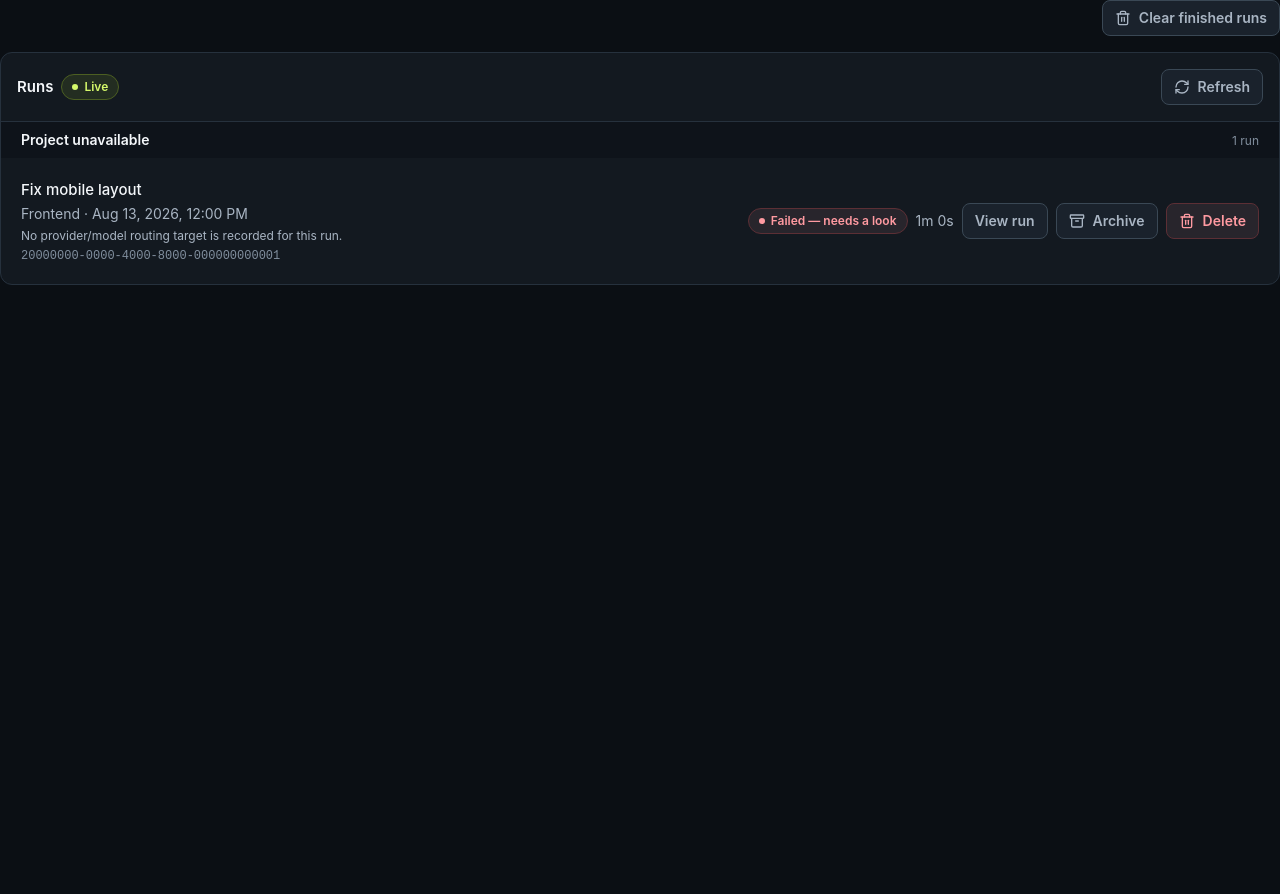
Test: Phase 1C control-plane consoles › offers a bounded retry only when run detail marks a terminal run retryable
Click the button "View run". click: (1005, 221)
box: [962,203,1048,239]
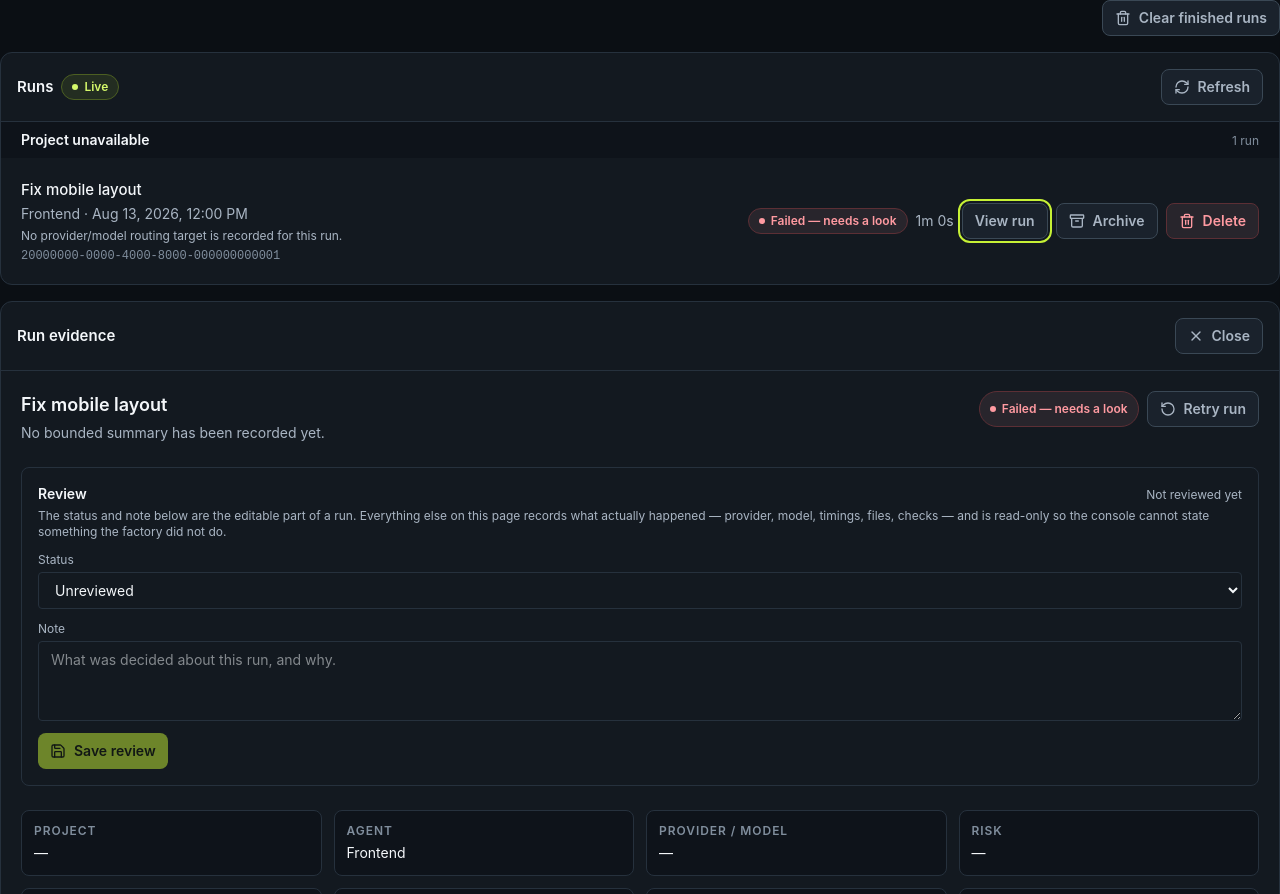
Click the button "Retry run". click: (1203, 409)
box: [1147,391,1259,427]
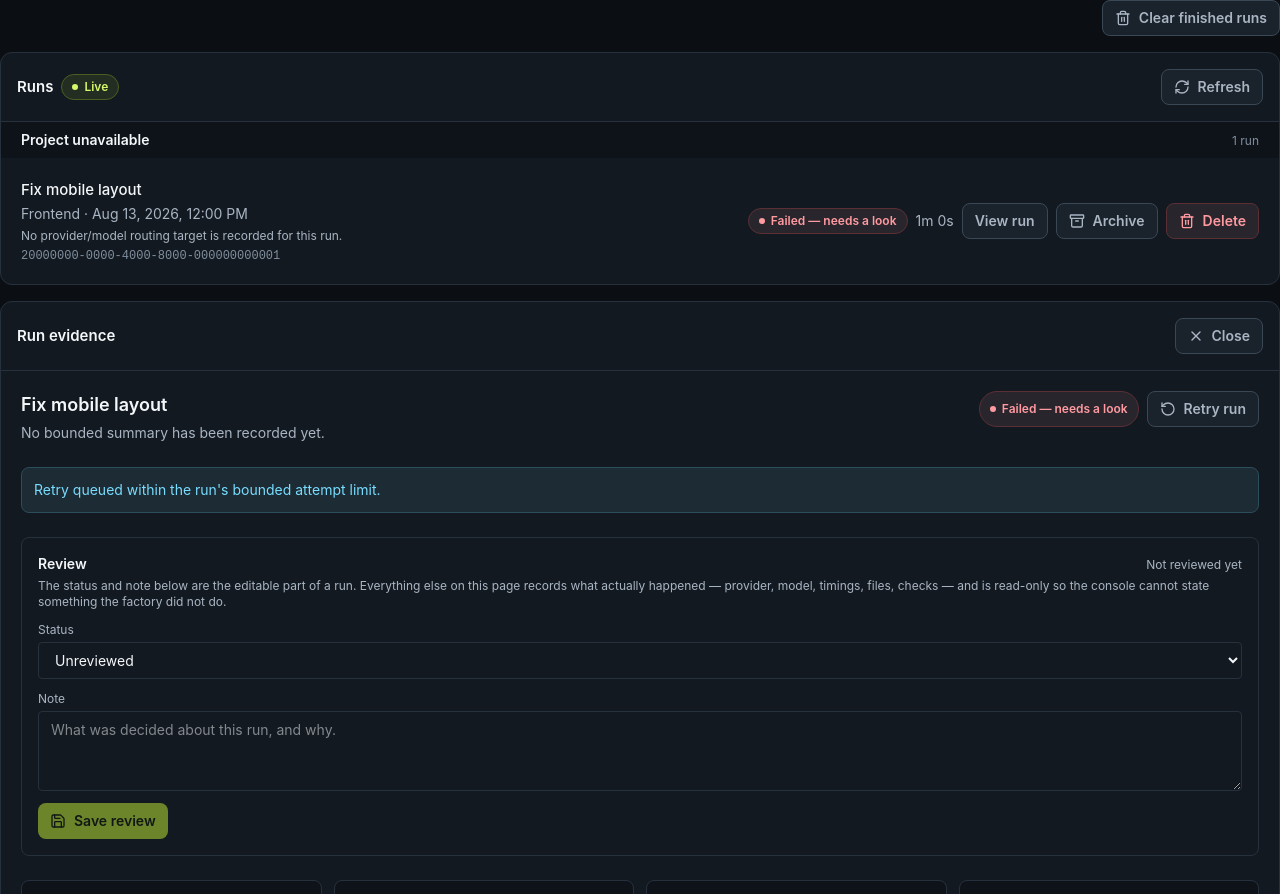
Check: the text "Retry queued within the run's bounded attempt limit." is shown, box [21,467,1259,513]
